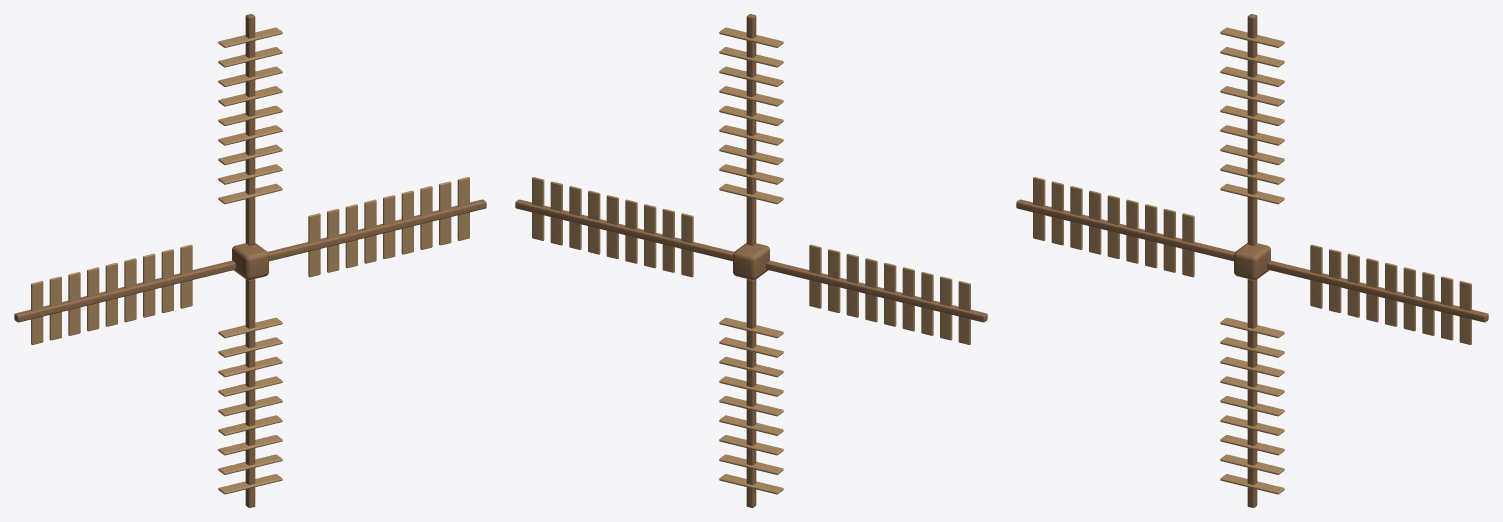
The model's file is WindmillRotor.glb.
3 views of the same model, side by side, from view 1: azimuth 30°, elevation 25°; view 2: azimuth 150°, elevation 25°; view 3: azimuth 330°, elevation 25° (orthographic).
Visible parts, largest first — view 1: WindmillRotor; view 2: WindmillRotor; view 3: WindmillRotor.
Boxes of the visible parts, <box> form: WindmillRotor: <box>14,14,486,507</box>; WindmillRotor: <box>515,14,987,507</box>; WindmillRotor: <box>1016,14,1488,507</box>.
Bounding box in the file's own units: 8.8 × 8.8 × 0.56.
